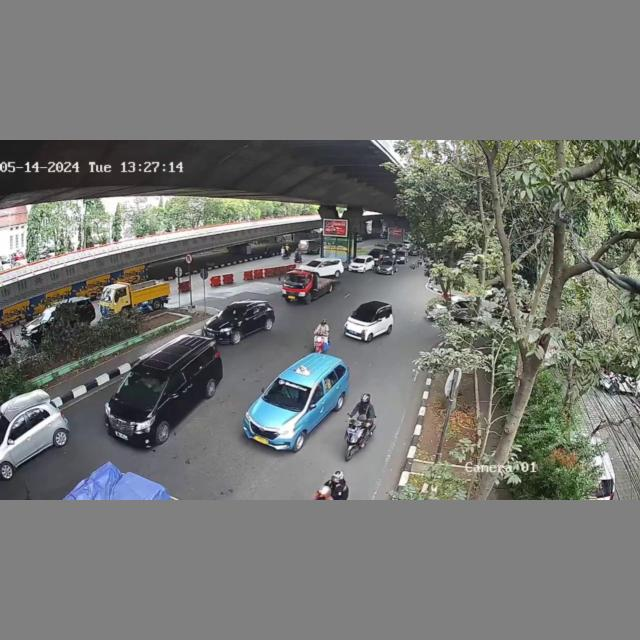windshield: (117, 371, 167, 410), (267, 375, 311, 411), (218, 305, 244, 322), (349, 307, 376, 323), (280, 273, 309, 286)
